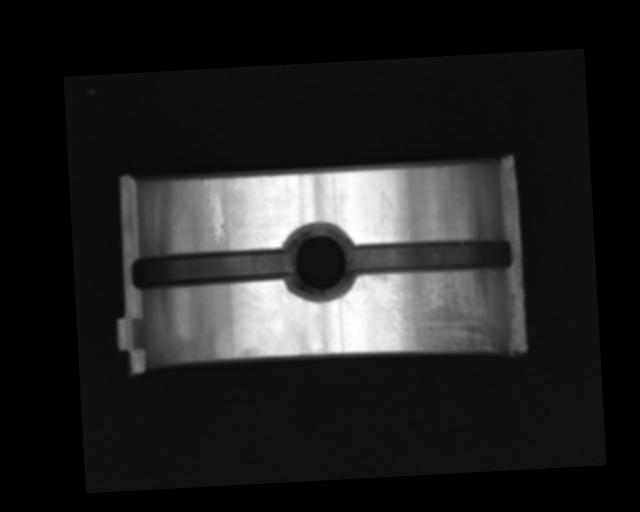gap: (348, 234, 511, 278), (130, 247, 290, 290)
hole: (281, 224, 358, 303)
nick: (202, 176, 228, 244)
scratch: (375, 267, 505, 363)
